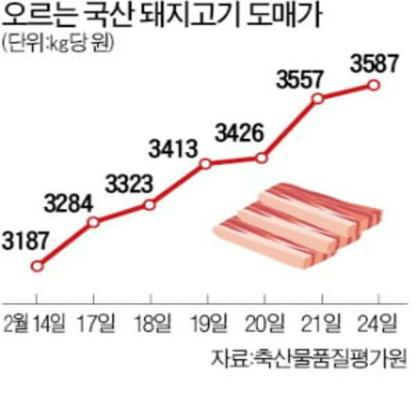pork: (214, 179, 385, 273)
